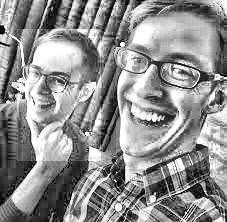happy: (116, 6, 220, 170)
